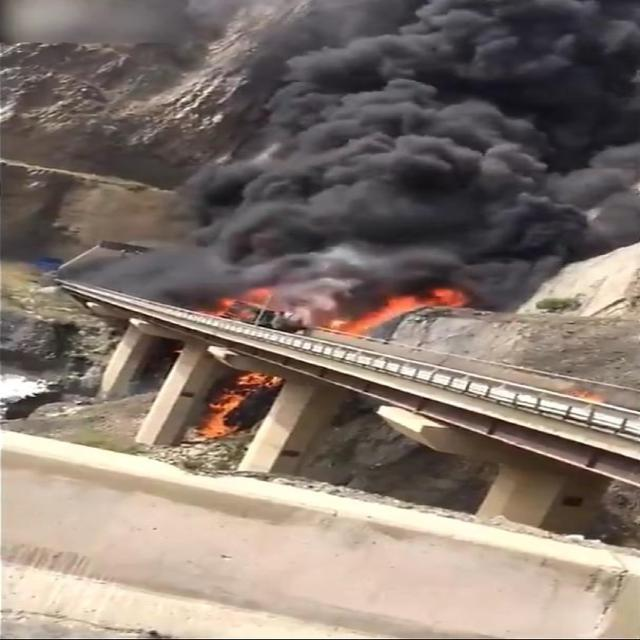Fire: (332, 286, 464, 334), (198, 368, 283, 441), (196, 284, 274, 320), (564, 384, 608, 405)
Smoke: (64, 0, 640, 318)
